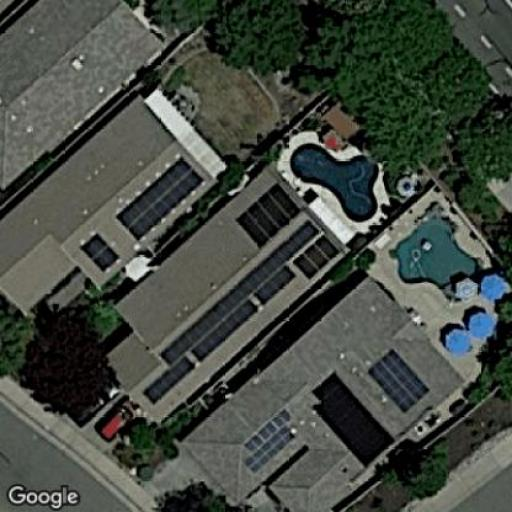solar-panel: (311, 372, 397, 466), (112, 156, 208, 239), (251, 222, 340, 302), (189, 272, 257, 361), (232, 182, 302, 249), (236, 404, 302, 472), (142, 326, 195, 406), (366, 348, 430, 411), (73, 231, 124, 274)
